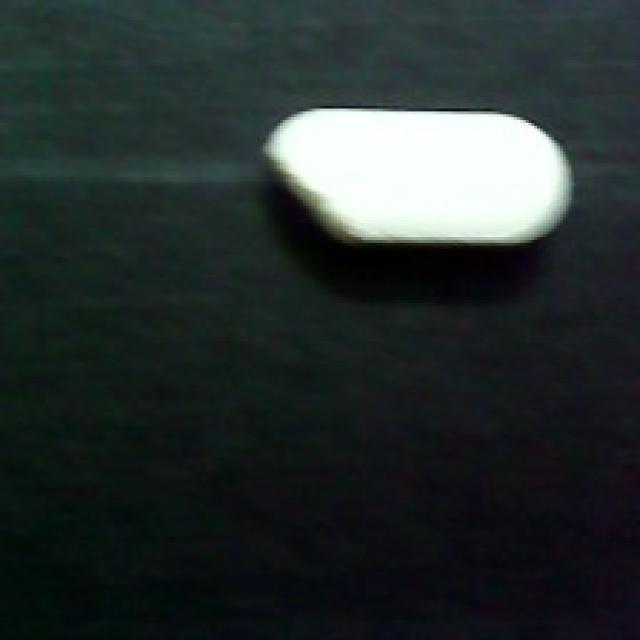defected: (257, 100, 574, 249)
